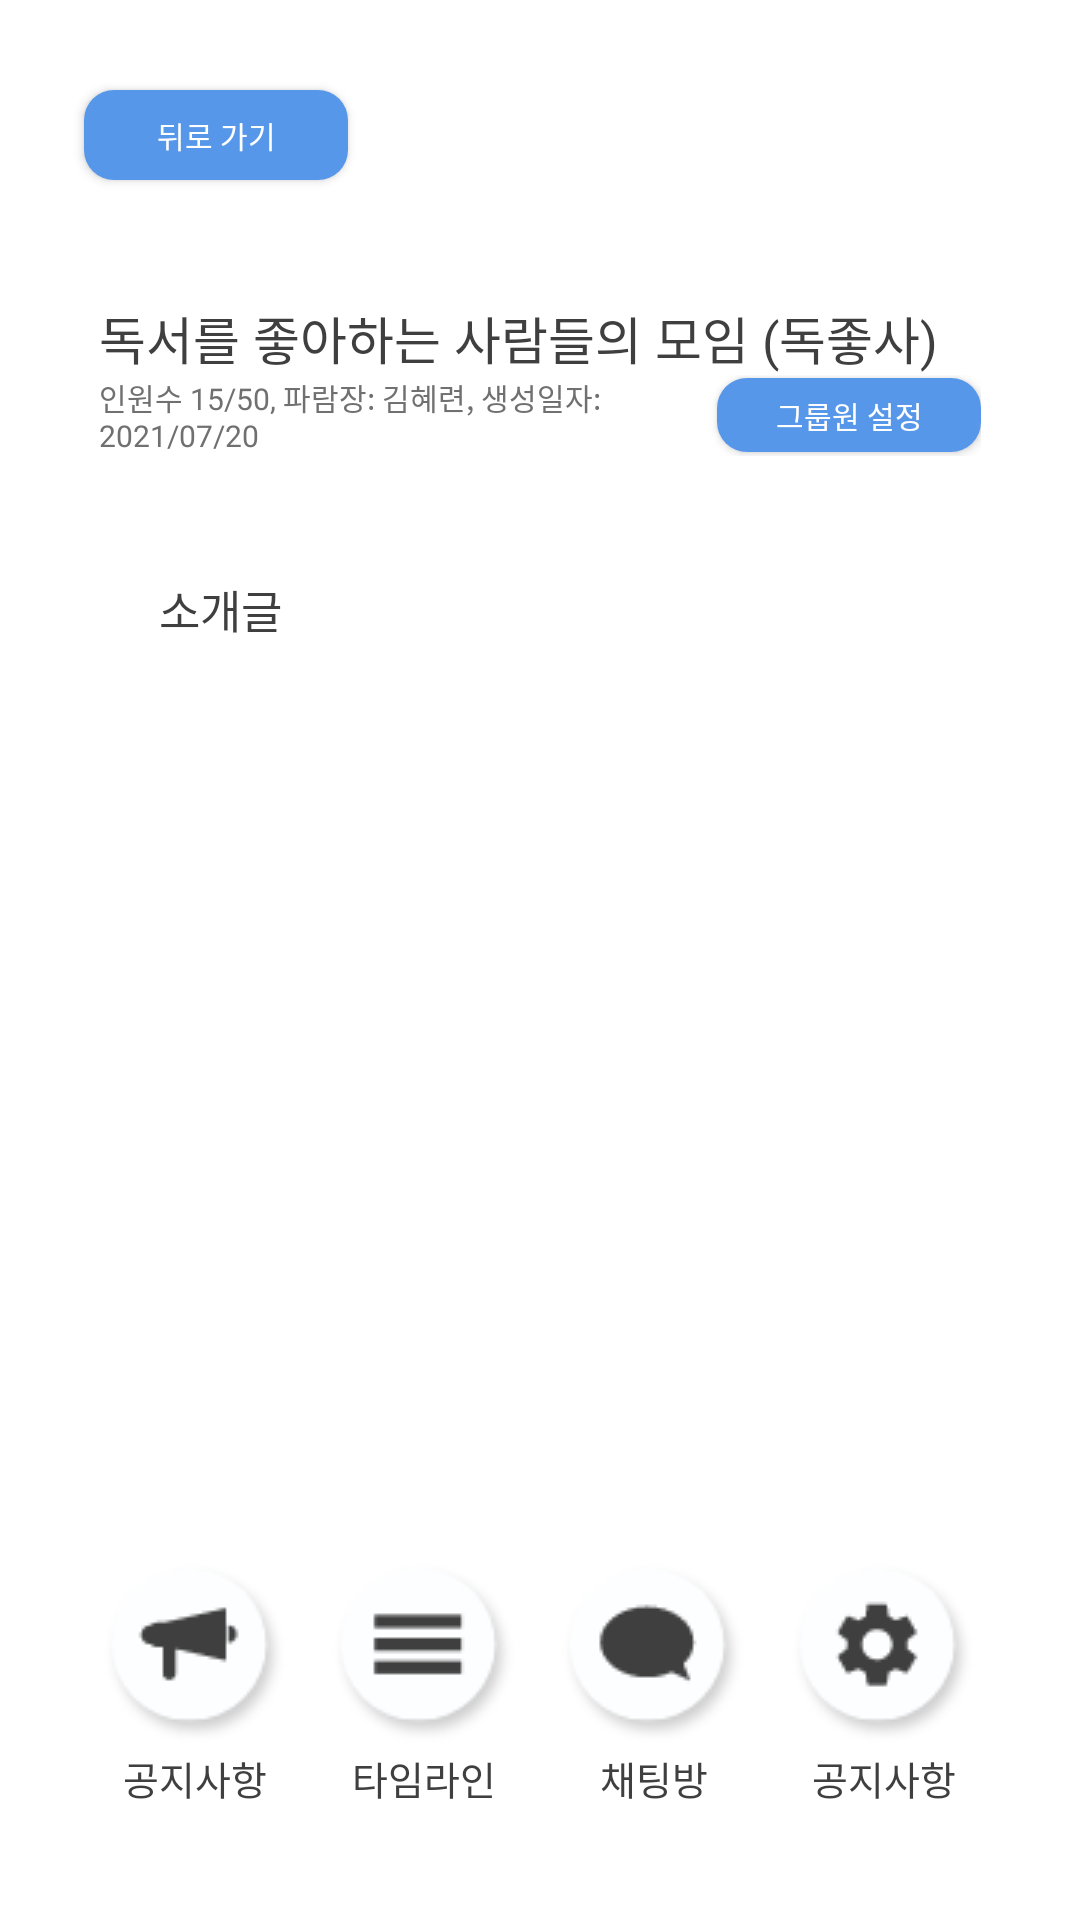

Icons on this 1080px×1920px Android screen, each with its box as (x1, y1, x2, y2):
settings: (825, 1602, 960, 1729)
